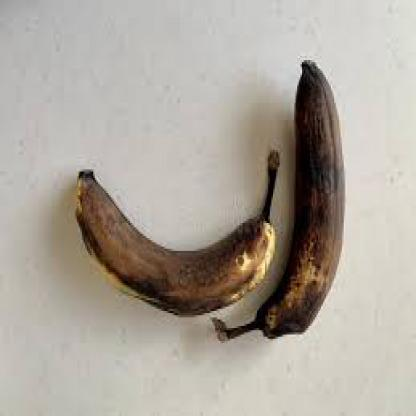banana_rotten: (64, 137, 288, 339)
